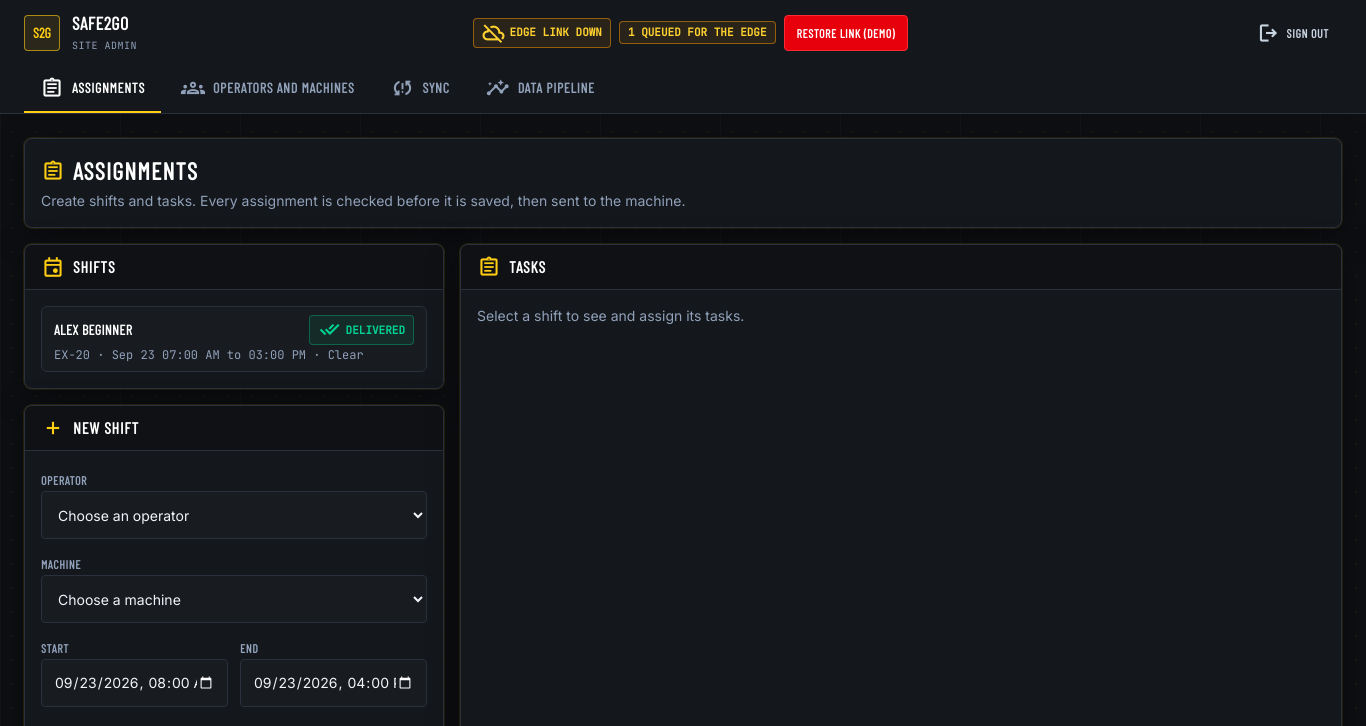
Test: Admin assignments › shows queued delivery while the edge link is down
Expected: the text "Edge link down" is shown, [472,18,611,48]
Click the button "Alex Beginner": [93, 330] box [41,306,427,372]
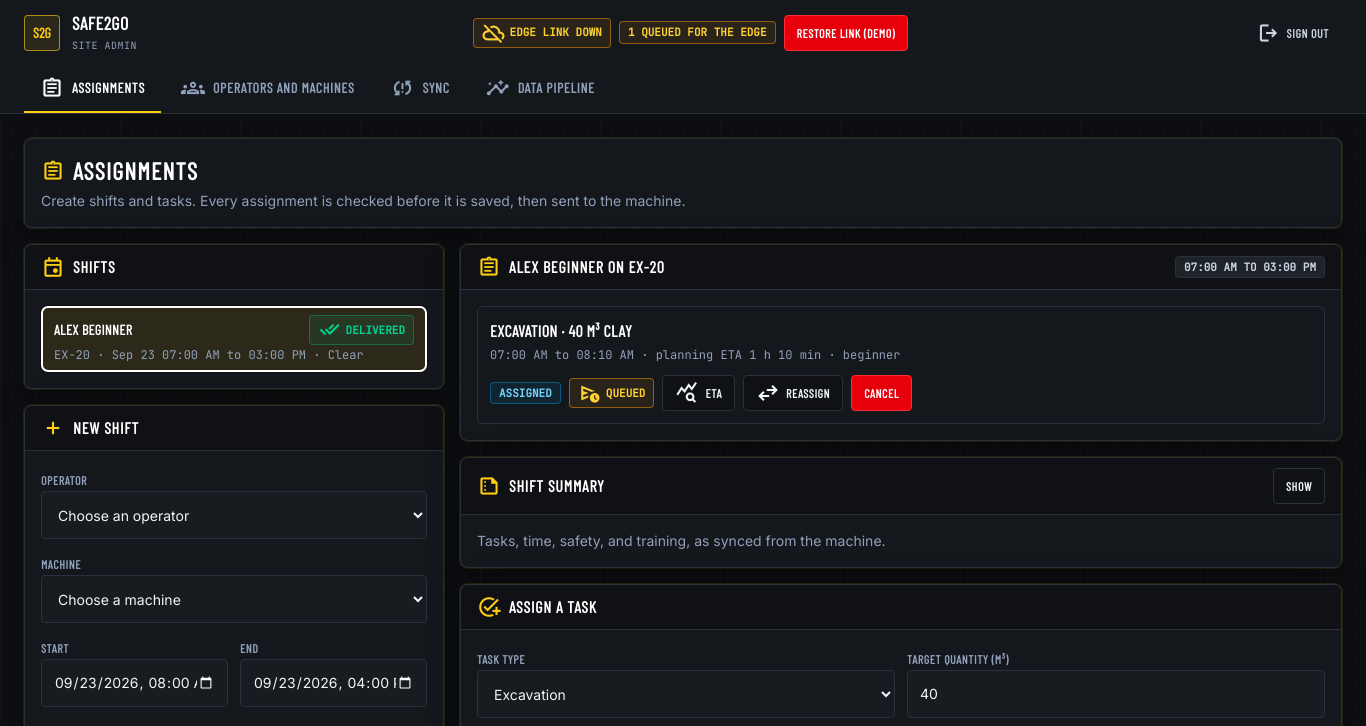
Expected: the text "Queued" is shown, [569,378,654,408]
